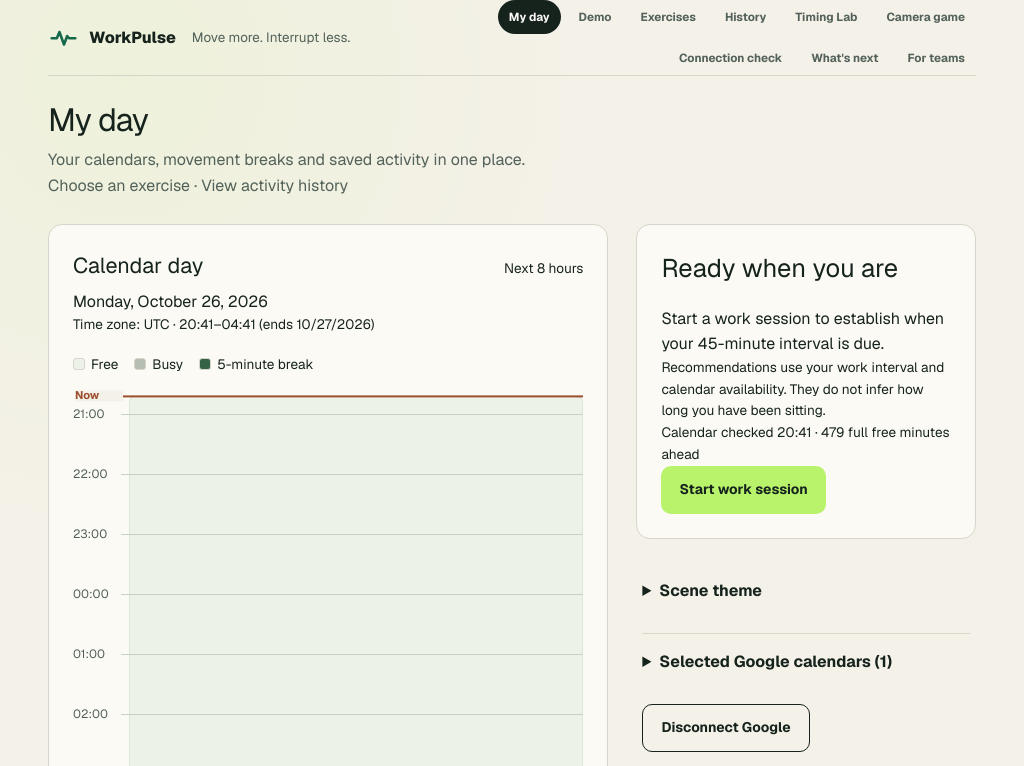
Test: Personal workday user boundary › starts elapsed work session only on explicit action
Click the button "Start work session": (744, 490) top-left (661, 466), bottom-right (826, 514)
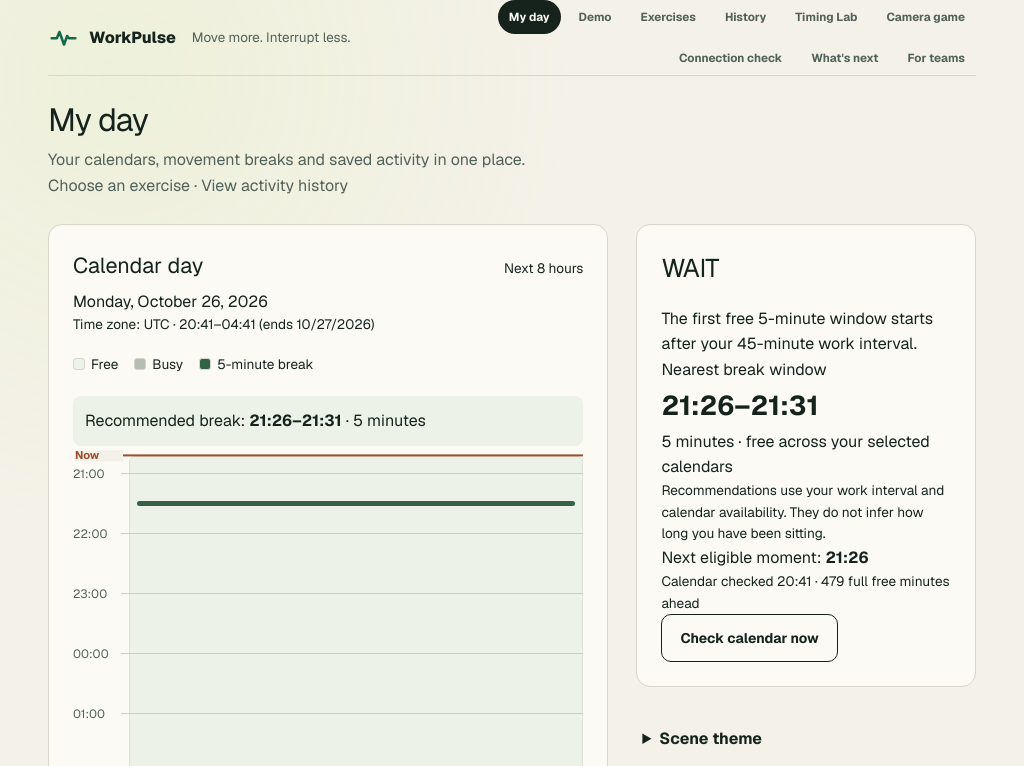
Result: the heading "WAIT" is shown at top-left (661, 251), bottom-right (720, 285)
